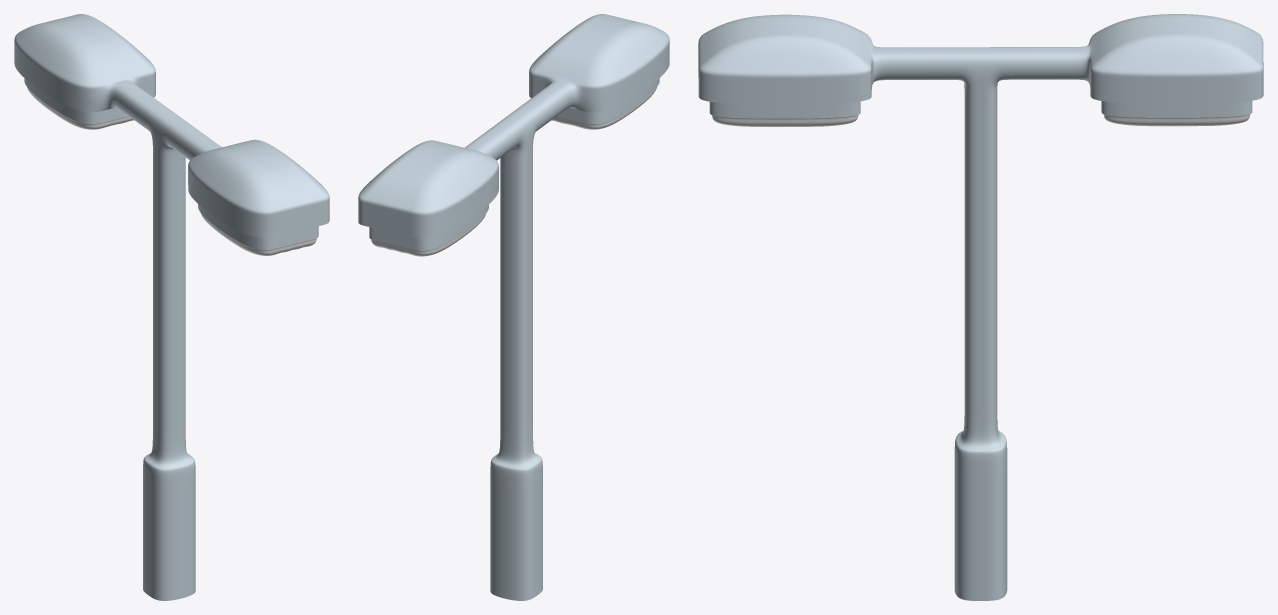
Rendered from trees.glb.
3 views of the same model, side by side, from view 1: azimuth 30°, elevation 25°; view 2: azimuth 150°, elevation 25°; view 3: azimuth 270°, elevation 25° (orthographic). The views are drawn at different scales.
Parts seen in each view (by area): view 1: Street light.008; view 2: Street light.008; view 3: Street light.008.
Part boxes in pixels (x1,y1,x2,y2): Street light.008: (14, 14, 329, 600); Street light.008: (358, 14, 669, 600); Street light.008: (698, 14, 1263, 600).
Bounding box in the file's own units: 2.62 × 13.77 × 12.49.
